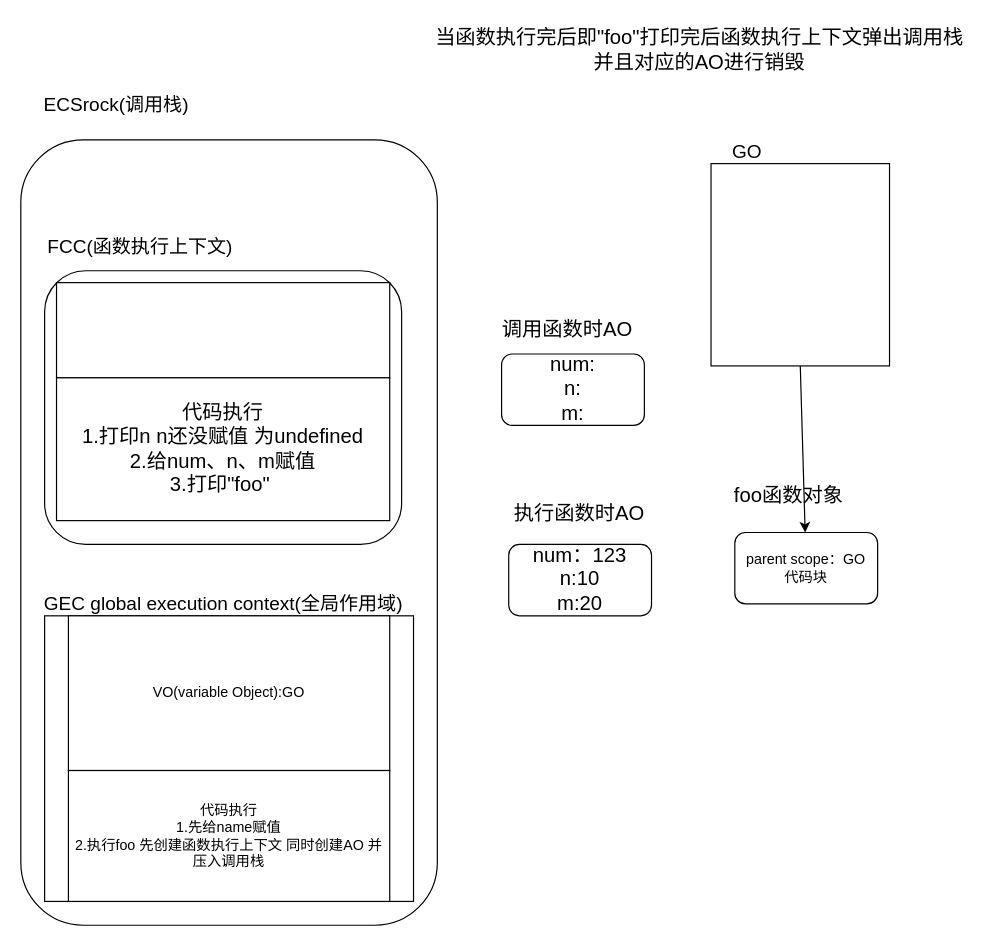
The diagram is 994 pixels wide and 946 high, and some of its shapes have lost their labels. Each missing label, with the box of its shape:
VO:AO(foo)+父级作用域VO(GO): (55, 281, 390, 378)
{ string:"类", window:GO, name:"why" foo:0xa00 }: (710, 162, 890, 366)
